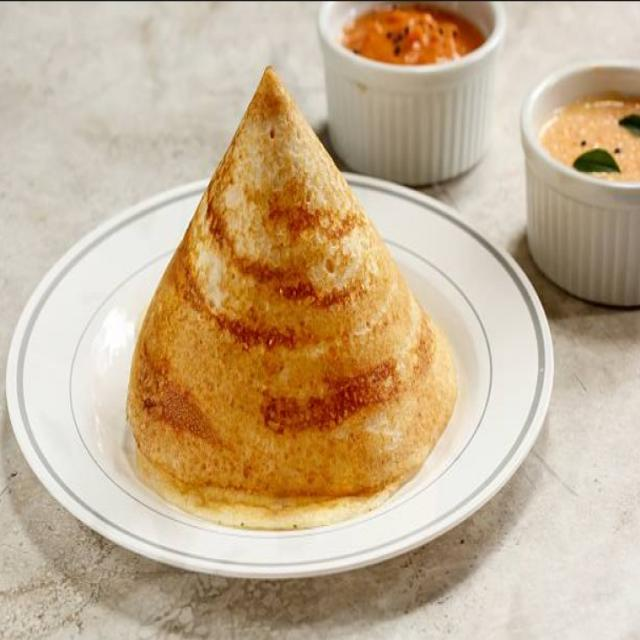DOSA: (128, 68, 458, 514)
RED CHUTNEY: (338, 4, 486, 66)
WHITE CHUTNEY: (540, 95, 639, 182)
